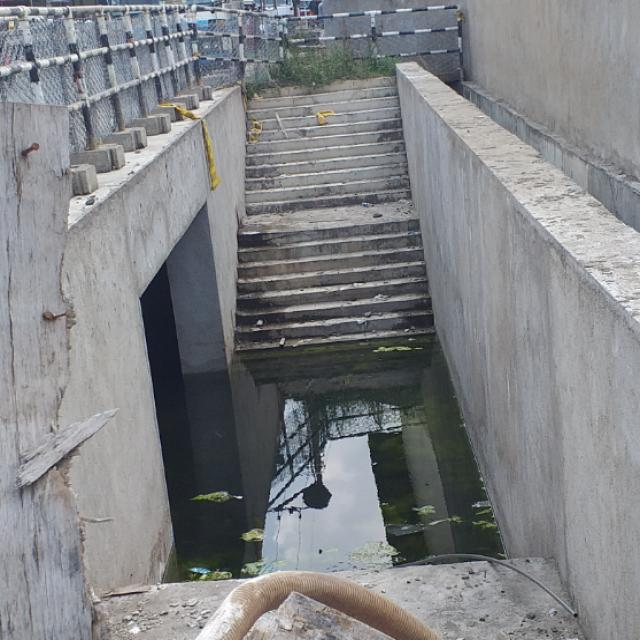Breeding Place: (120, 206, 574, 620)
